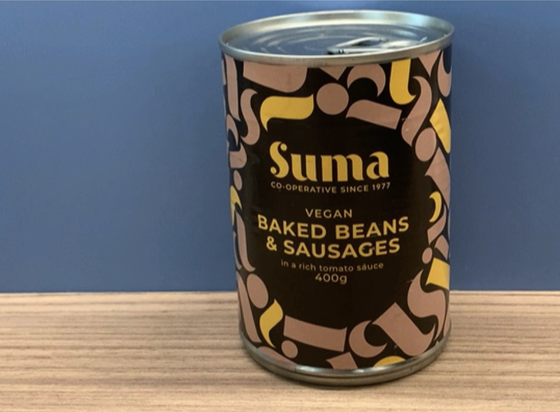Baked beans_450g: (236, 98, 439, 353)
